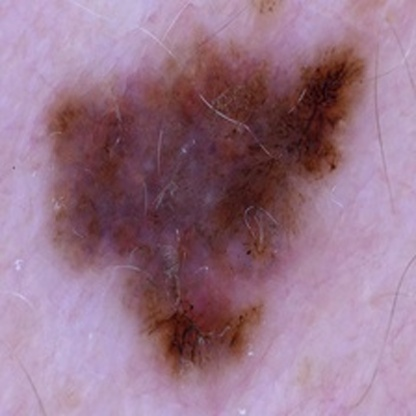malignant: (53, 63, 330, 294)
